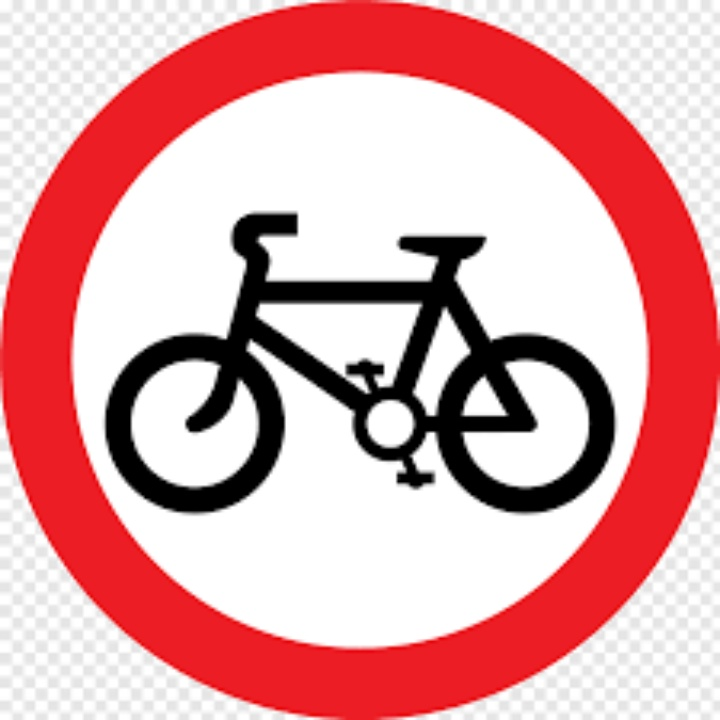bicycle: (103, 212, 615, 514)
